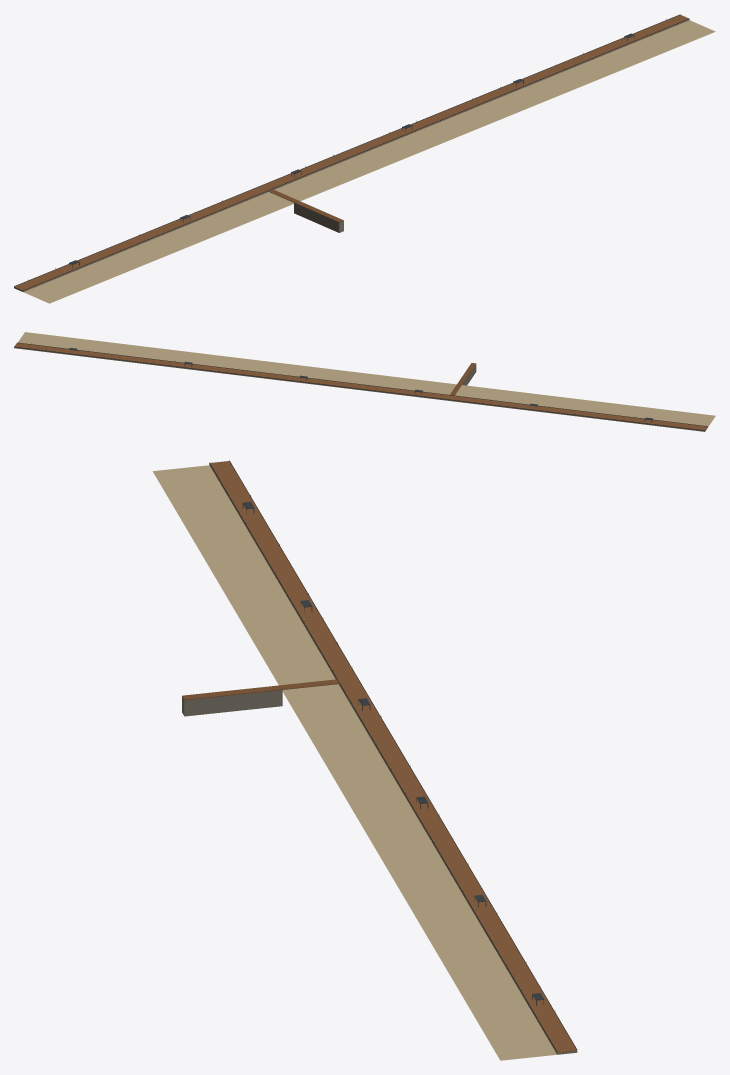
3 renders of one model, top to bottom at view 1: azimuth 30°, elevation 25°; view 2: azimuth 150°, elevation 25°; view 3: azimuth 270°, elevation 25°, orthographic. The views are drawn at different scales.
Visible parts, largest first — view 1: coney-island-boardwalk-lod1; view 2: coney-island-boardwalk-lod1; view 3: coney-island-boardwalk-lod1.
Boxes of the visible parts, x1,y1,x2,y2 form: coney-island-boardwalk-lod1: (14,14,715,303); coney-island-boardwalk-lod1: (14,332,715,431); coney-island-boardwalk-lod1: (153,460,577,1060).
Bounding box in the file's own units: 2656 × 46.69 × 798.
